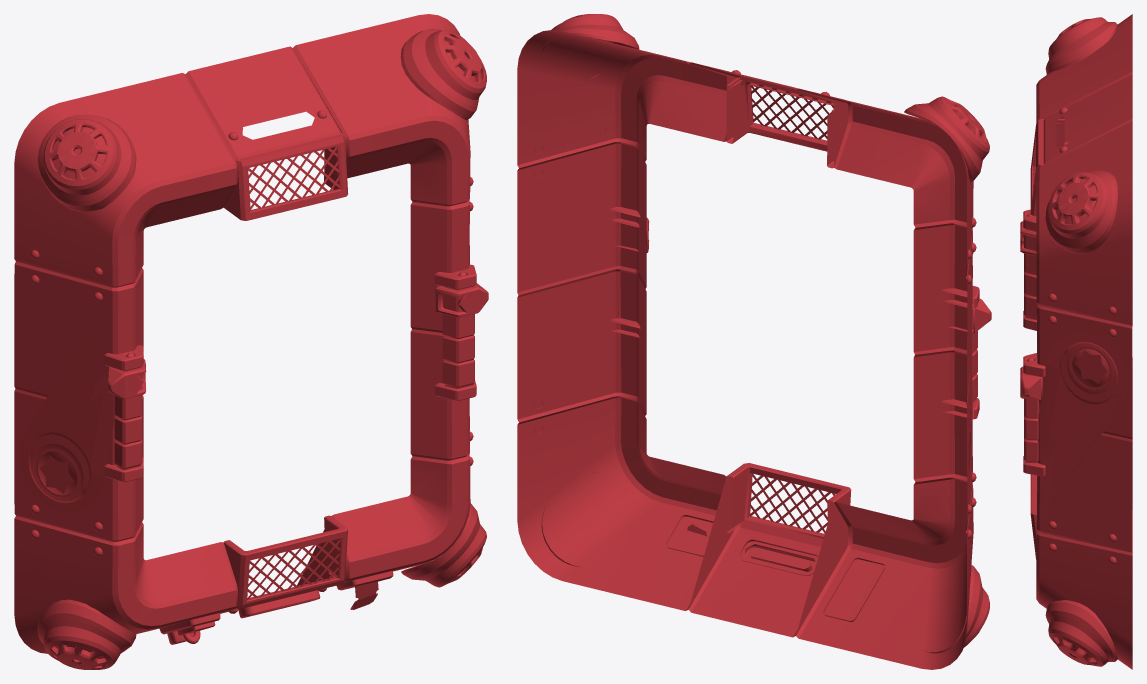
The model's file is bgr_airhockey_geo.glb.
3 renders of one model, left to right at view 1: azimuth 30°, elevation 25°; view 2: azimuth 150°, elevation 25°; view 3: azimuth 270°, elevation 25°, orthographic. The views are drawn at different scales.
Visible parts, largest first — view 1: airhockey_Main_foundation, airhockey_speakers, airhockey_sticker_L, airhockey_front_foundation.001, airhockey_counter, red_goal, blue_goal, airhockey_details, red_goal_net, blue_goal_net, red_pointer, blue_pointer (+1 smaller); view 2: airhockey_Main_foundation, airhockey_front_foundation.001, airhockey_speakers, red_goal, blue_goal, airhockey_counter, blue_goal_net, red_goal_net, airhockey_sticker_L; view 3: airhockey_Main_foundation, airhockey_speakers, airhockey_stickerR, airhockey_front_foundation.001, airhockey_counter, red_goal, airhockey_bolts, red_pointer, blue_goal, blue_pointer.
Boxes of the visible parts, x1=… form: airhockey_Main_foundation: x1=14, y1=14, x2=470, y2=653; airhockey_speakers: x1=37, y1=28, x2=486, y2=669; airhockey_sticker_L: x1=18, y1=307, x2=115, y2=511; airhockey_front_foundation.001: x1=185, y1=46, x2=341, y2=618; airhockey_counter: x1=104, y1=264, x2=476, y2=482; red_goal: x1=224, y1=133, x2=348, y2=220; blue_goal: x1=223, y1=515, x2=347, y2=608; airhockey_details: x1=159, y1=570, x2=393, y2=644; red_goal_net: x1=248, y1=146, x2=339, y2=209; blue_goal_net: x1=247, y1=539, x2=340, y2=599; red_pointer: x1=435, y1=283, x2=488, y2=317; blue_pointer: x1=108, y1=359, x2=146, y2=399; airhockey_Main_foundation: x1=517, y1=30, x2=973, y2=669; airhockey_front_foundation.001: x1=688, y1=62, x2=834, y2=637; airhockey_speakers: x1=541, y1=14, x2=989, y2=653; red_goal: x1=726, y1=77, x2=847, y2=168; blue_goal: x1=727, y1=463, x2=851, y2=556; airhockey_counter: x1=610, y1=207, x2=979, y2=419; blue_goal_net: x1=749, y1=473, x2=835, y2=533; red_goal_net: x1=747, y1=82, x2=834, y2=139; airhockey_sticker_L: x1=968, y1=252, x2=973, y2=495; airhockey_Main_foundation: x1=1036, y1=14, x2=1132, y2=669; airhockey_speakers: x1=1045, y1=17, x2=1117, y2=666; airhockey_stickerR: x1=1037, y1=333, x2=1128, y2=516; airhockey_front_foundation.001: x1=1043, y1=74, x2=1132, y2=164; airhockey_counter: x1=1023, y1=209, x2=1045, y2=476; red_goal: x1=1030, y1=119, x2=1064, y2=215; airhockey_bolts: x1=1027, y1=107, x2=1116, y2=564; red_pointer: x1=1020, y1=366, x2=1042, y2=399; blue_goal: x1=1030, y1=474, x2=1036, y2=559; blue_pointer: x1=1020, y1=221, x2=1036, y2=256.
Size of the model in its own units: 35.37 by 41.47 by 8.59.
